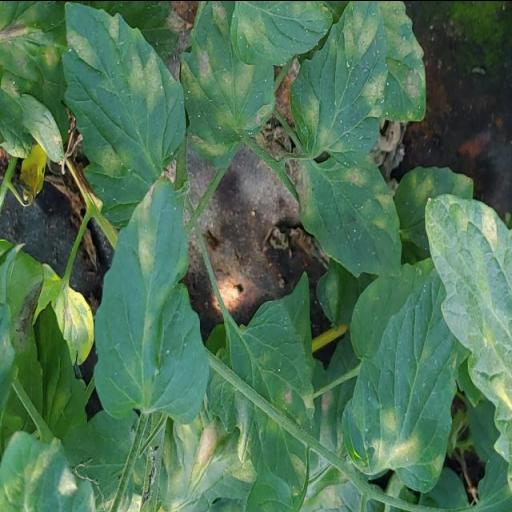disease_tomato: (61, 0, 187, 232), (92, 175, 209, 424), (340, 267, 460, 493), (289, 0, 389, 170), (182, 0, 276, 163), (297, 156, 402, 276), (229, 0, 332, 67)
